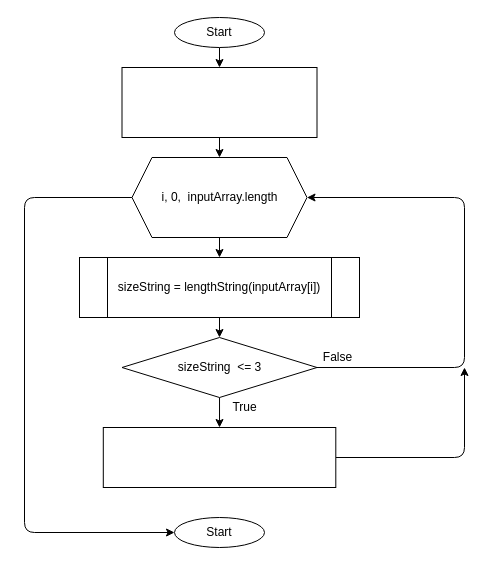
Some shapes in this 490 by 565 pixel diagram are drawn without their labels. The centre of each missing label's shape, as x and y in pixels:
"inputArray[] = {1..count} outputArray[] count = 0 sizeString = 0" goes at pixel 219 102.
"outputArray[count] = inputArray[i] ++count" goes at pixel 219 457.
